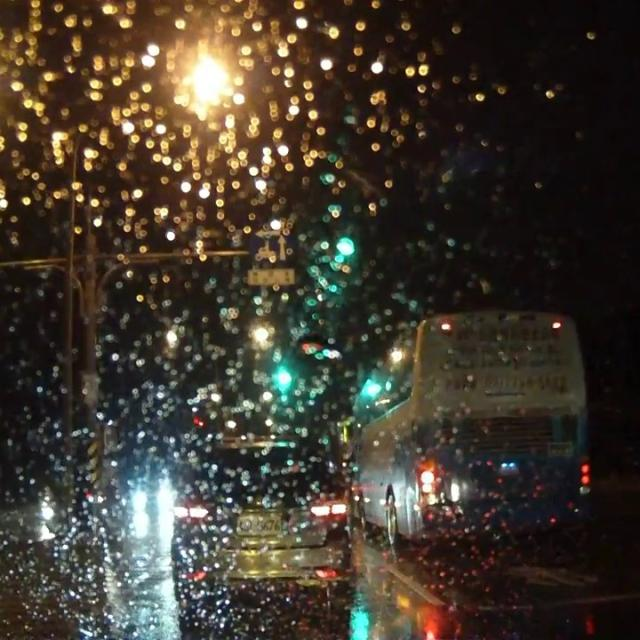Car: (162, 428, 358, 594)
